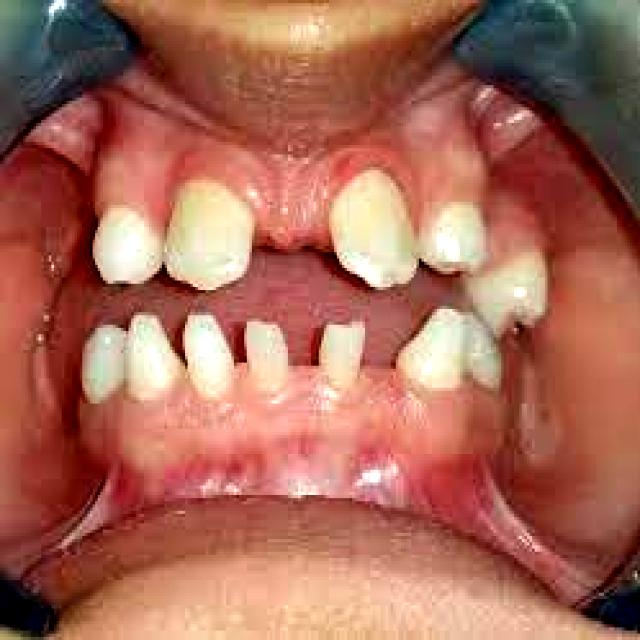hypodontia: (93, 123, 586, 325), (90, 306, 499, 448)
